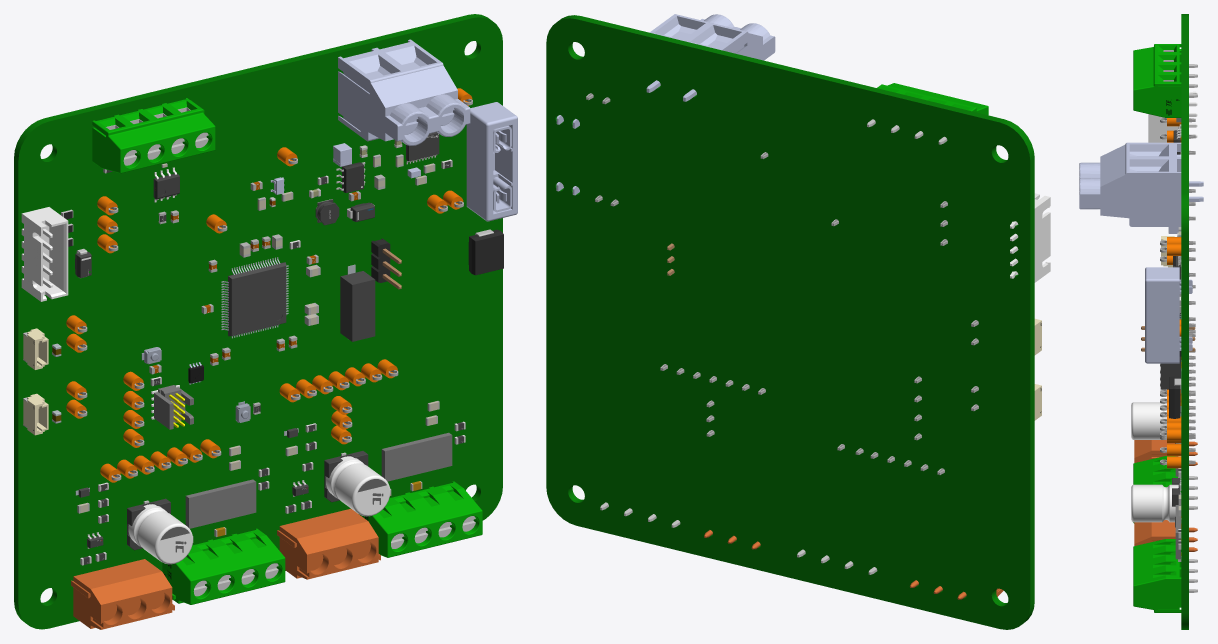
Rendered from MotorboardPCB.glb.
The picture shows the model from 3 angles, left to right: view 1: azimuth 30°, elevation 25°; view 2: azimuth 150°, elevation 25°; view 3: azimuth 270°, elevation 25°; orthographic projection. The views are drawn at different scales.
Visible parts, largest first — view 1: PCB, NAUO1_39, c-282836-4-j-3d:1_2, c-282836-4-j-3d:1_1, c-282836-4-j-3d:1, NAUO1_38, =>[0:1:1:2]_3, 3:1_4, 3:1_3, =>[0:1:1:2]_2, 5, _FTSH-105-01-L-DV-K_body (+2 smaller); view 2: PCB, NAUO1_39, NAUO1_38, c-282836-4-j-3d:1_2; view 3: PCB, NAUO1_39, c-282836-4-j-3d:1_2, c-282836-4-j-3d:1, 3:1_3, 3:1_4, c-282836-4-j-3d:1_1, NAUO1_38, 5, =>[0:1:1:2]_2, 1:1_8.
Part boxes in pixels (x1,y1,x2,y2): PCB: [14, 14, 517, 629]; NAUO1_39: [338, 39, 470, 145]; c-282836-4-j-3d:1_2: [92, 98, 215, 173]; c-282836-4-j-3d:1_1: [162, 528, 285, 604]; c-282836-4-j-3d:1: [359, 481, 482, 557]; NAUO1_38: [21, 207, 68, 301]; =>[0:1:1:2]_3: [228, 262, 286, 336]; 3:1_4: [128, 504, 193, 564]; 3:1_3: [326, 456, 390, 516]; =>[0:1:1:2]_2: [340, 271, 375, 341]; 5: [468, 229, 503, 275]; _FTSH-105-01-L-DV-K_body: [154, 385, 193, 429]; PCB: [546, 15, 1034, 629]; NAUO1_39: [646, 14, 775, 101]; NAUO1_38: [1010, 193, 1050, 282]; c-282836-4-j-3d:1_2: [877, 83, 988, 115]; PCB: [1134, 14, 1197, 629]; NAUO1_39: [1079, 142, 1203, 226]; c-282836-4-j-3d:1_2: [1133, 44, 1181, 117]; c-282836-4-j-3d:1: [1133, 539, 1181, 612]; 3:1_3: [1131, 484, 1178, 522]; 3:1_4: [1131, 402, 1166, 439]; c-282836-4-j-3d:1_1: [1133, 456, 1181, 523]; NAUO1_38: [1148, 91, 1197, 142]; 5: [1169, 376, 1180, 418]; =>[0:1:1:2]_2: [1160, 356, 1180, 389]; 1:1_8: [1172, 478, 1179, 527].
Size of what is drawn, in the model's own units: 0.1016 by 0.1016 by 0.0265.
